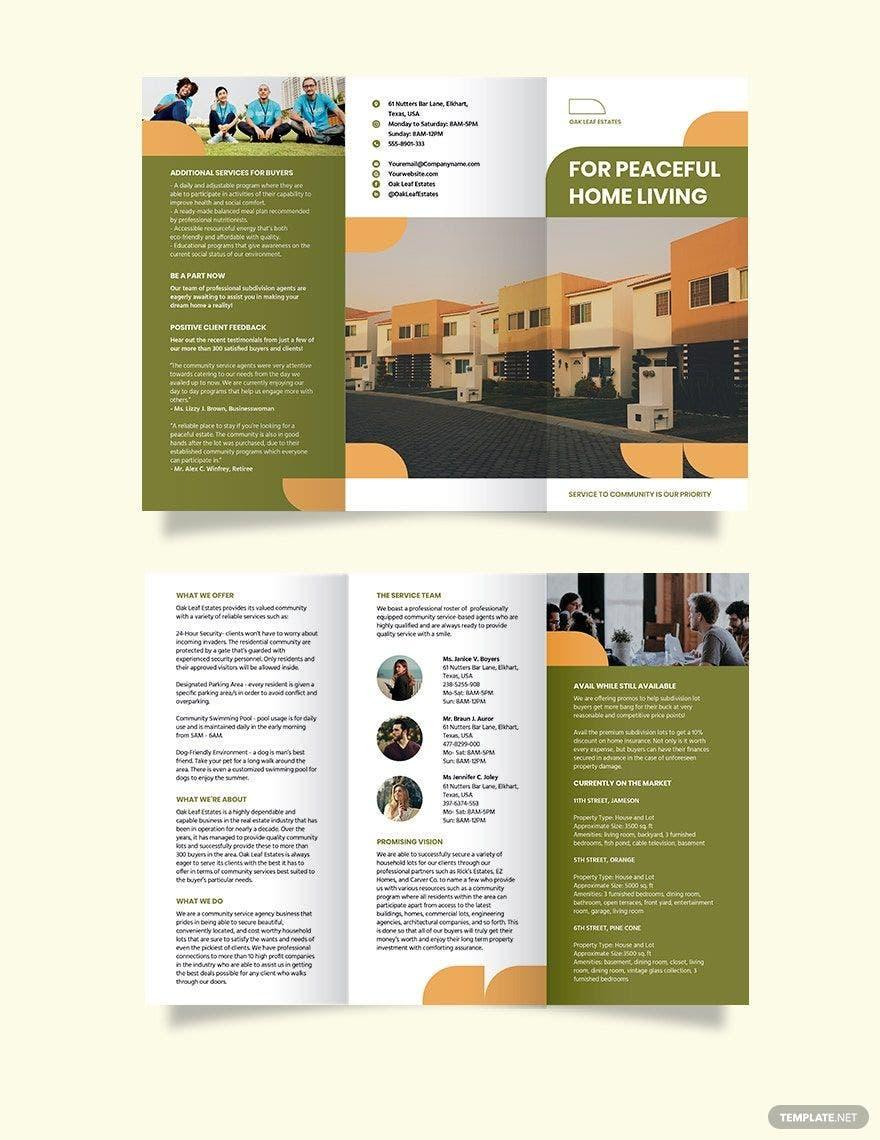paper: (140, 77, 748, 513), (145, 574, 750, 1012)
